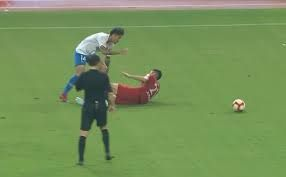fall: (74, 63, 171, 108)
